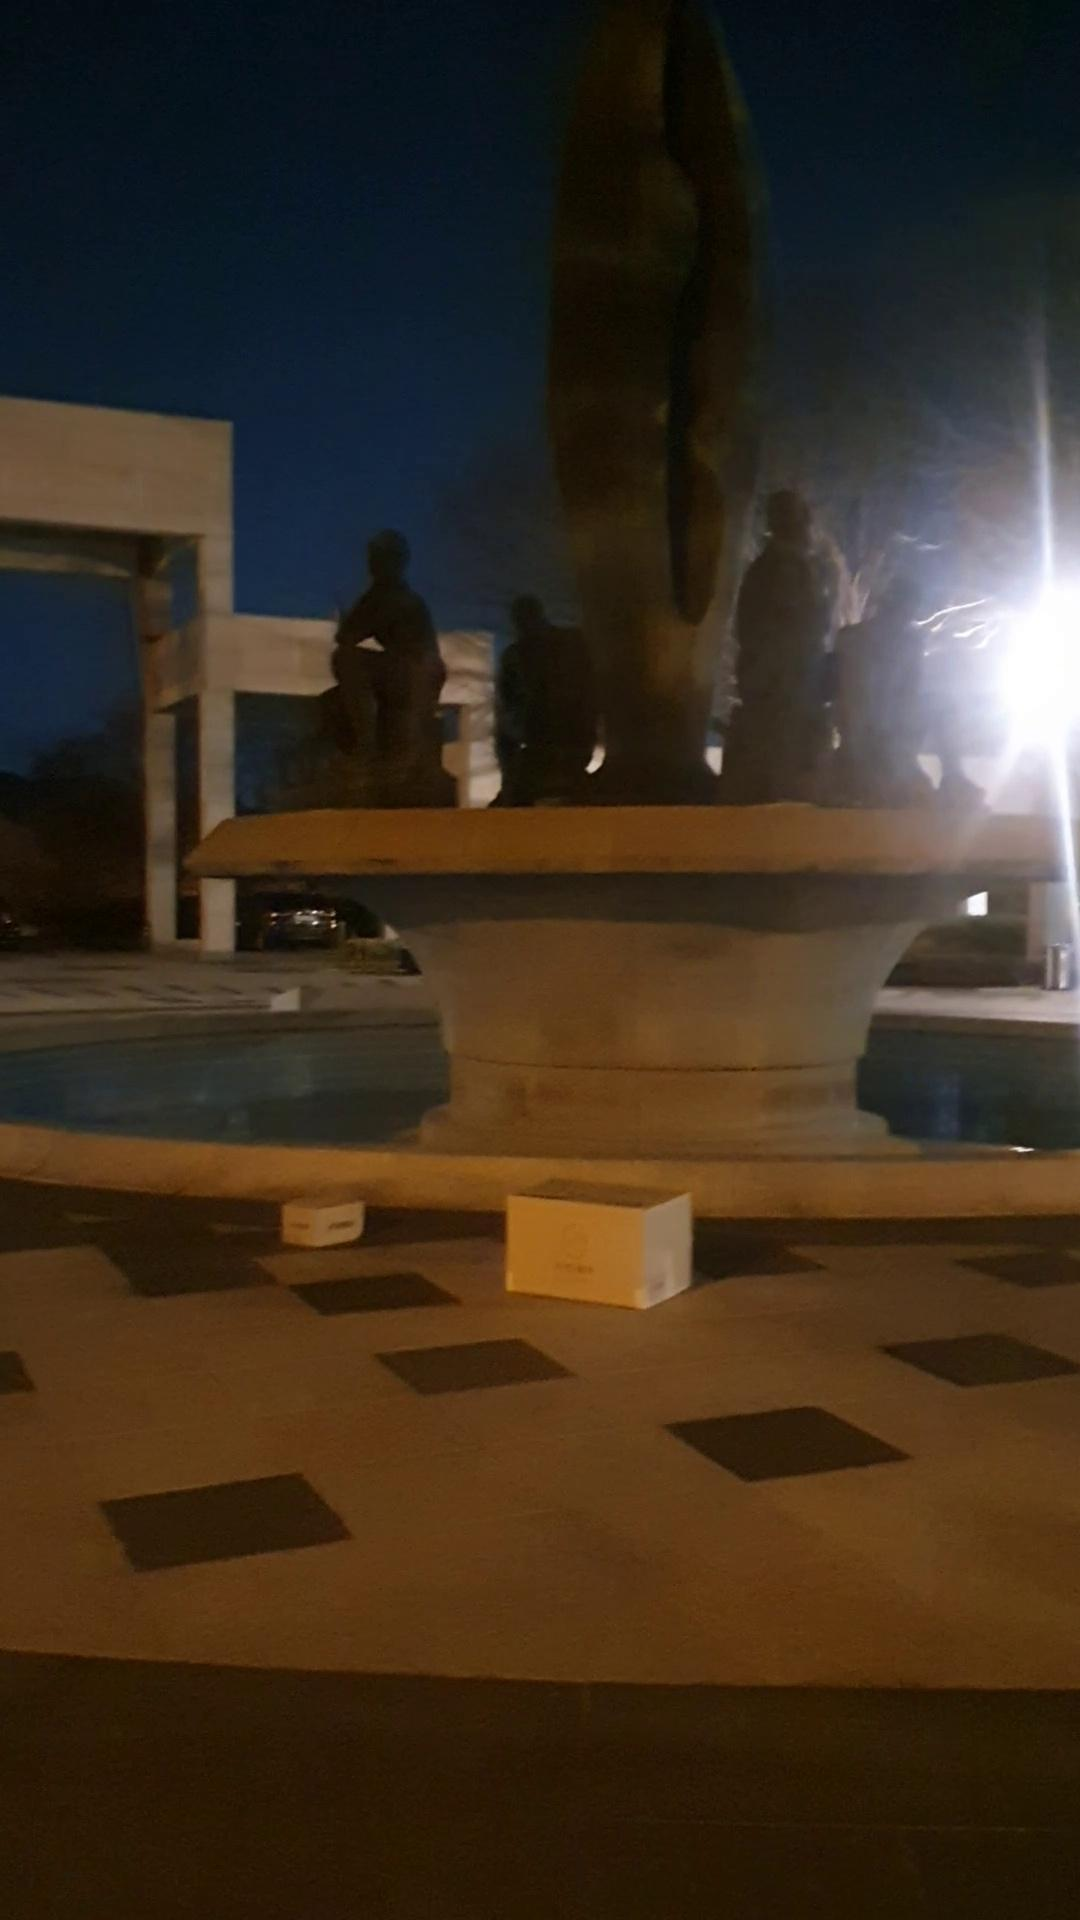Box: (496, 1168, 715, 1325), (276, 1180, 371, 1257)
